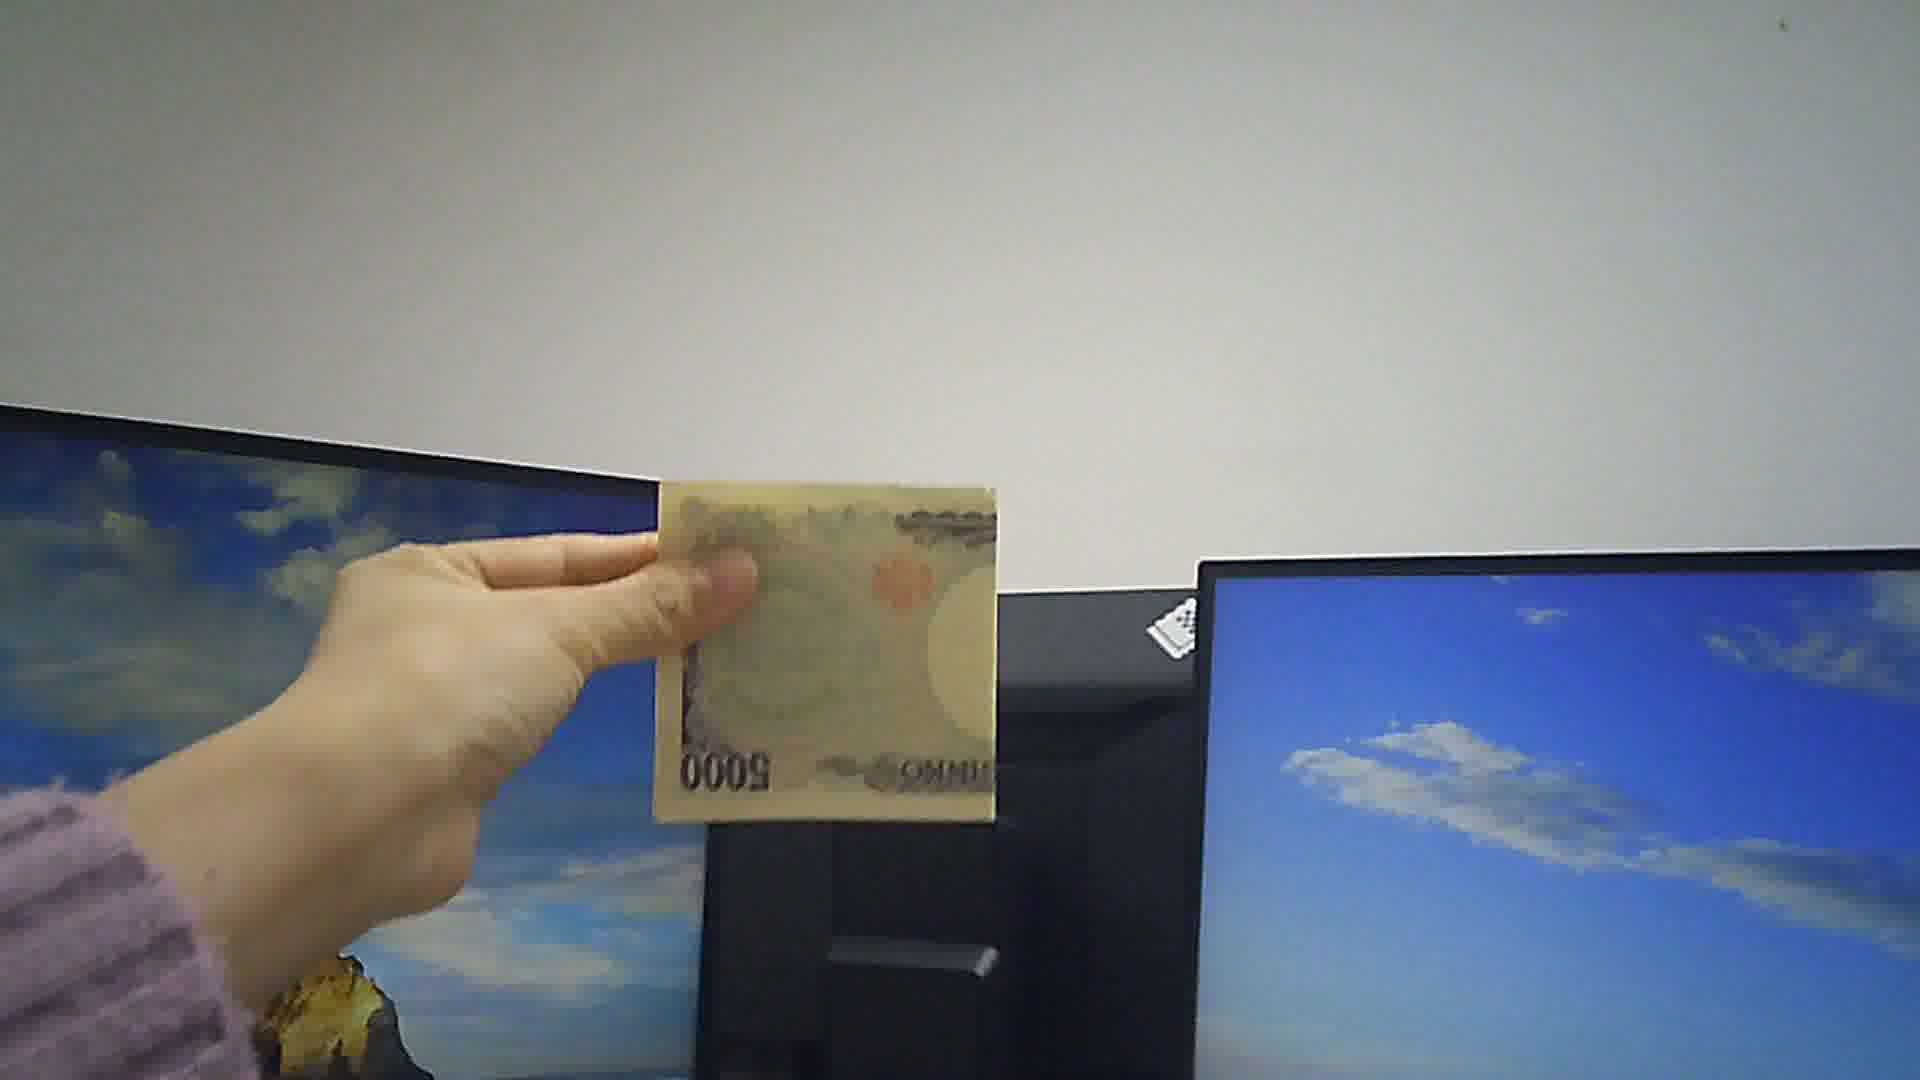5,000 Yen: (640, 450, 1004, 820)
